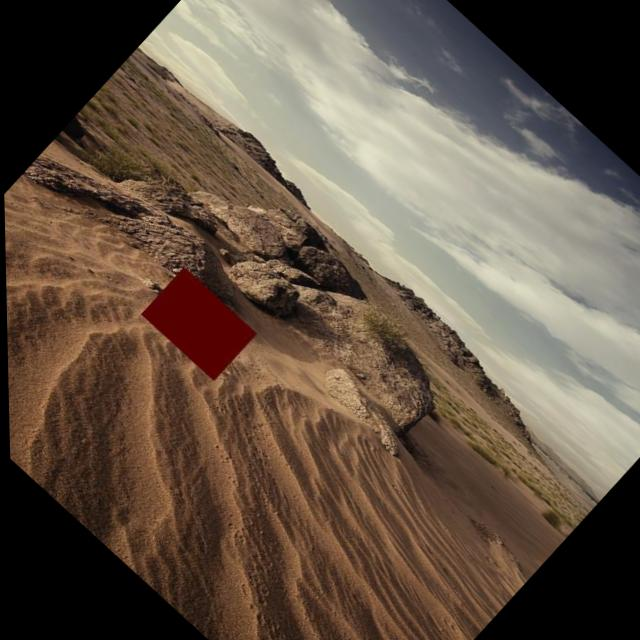RedSquare: (126, 255, 265, 390)
